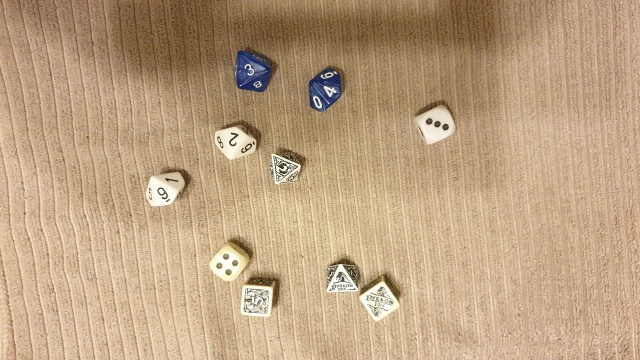d10-2: (209, 121, 258, 162)
d10-3: (231, 46, 271, 98)
d10-4: (305, 64, 344, 112)
d10-9: (140, 170, 189, 209)
d6-3: (411, 101, 457, 147)
d6-4: (206, 242, 252, 283)
d6p-1: (358, 274, 403, 324)
d6p-5: (238, 277, 278, 318)
d8p-1: (323, 261, 359, 295)
d8p-2: (267, 150, 301, 186)
